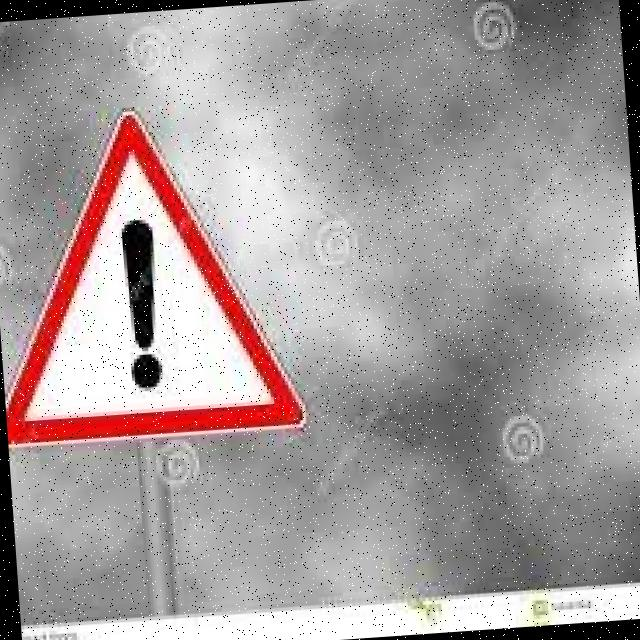warning: (0, 96, 310, 469)
